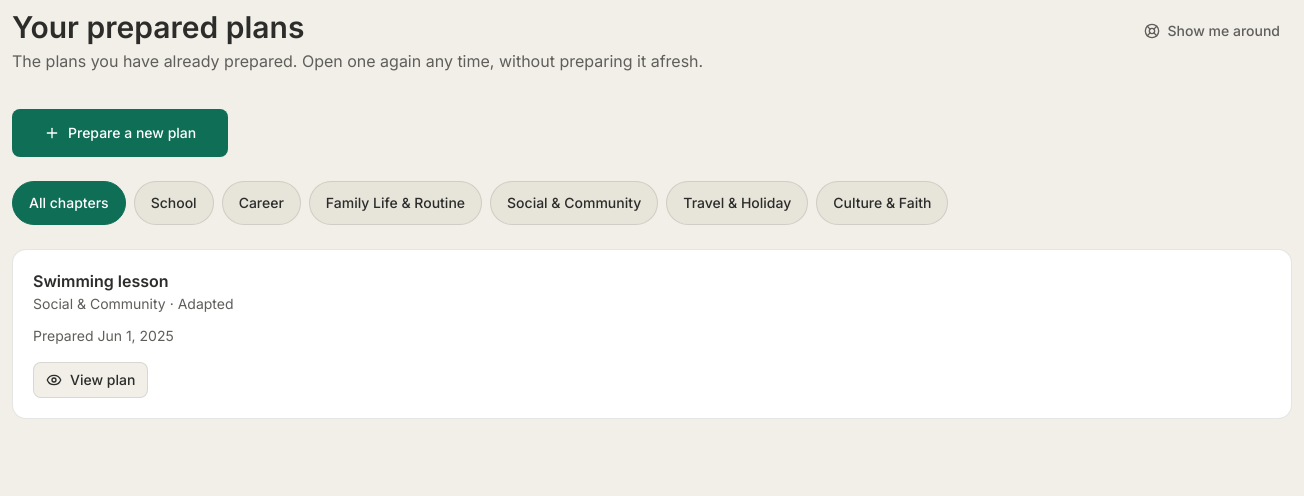
Test case: PlansList › shows a filtered empty state (not 'no plans yet') when a chapter filter yields nothing
Expected: the heading "Swimming lesson" is shown, left=33, top=271, right=169, bottom=291
Click the button "School".
click(174, 203)  # box left=134, top=181, right=214, bottom=225
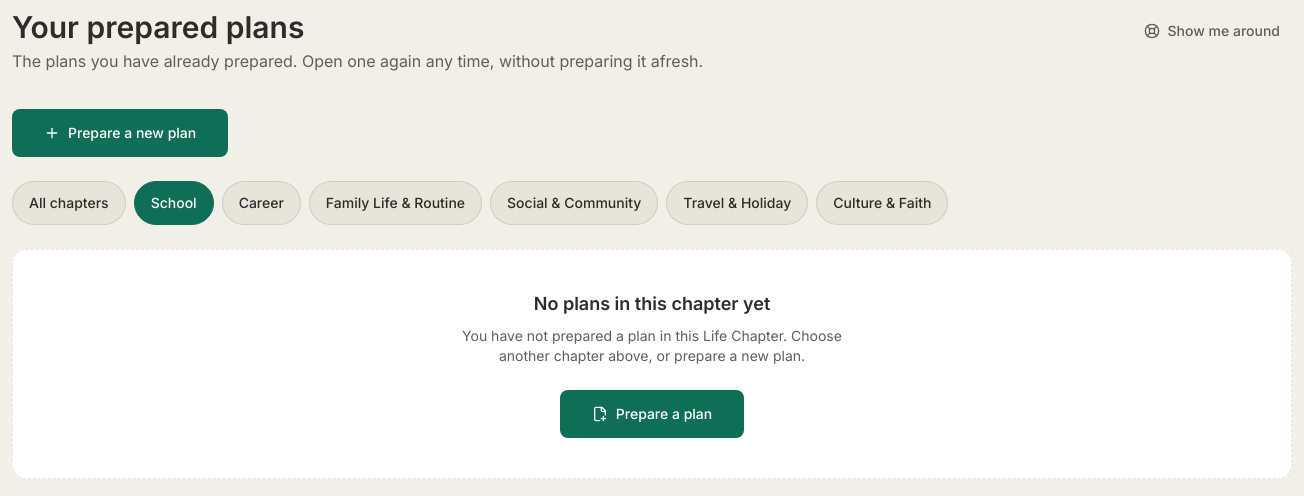
Now the heading "No plans in this chapter yet" is shown, box left=534, top=293, right=770, bottom=314
